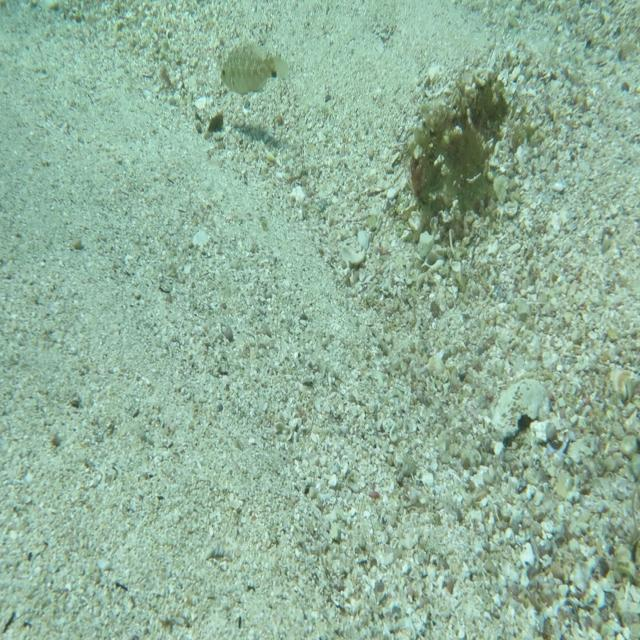SA: (219, 38, 291, 100)
core_nest: (462, 88, 498, 124)
nest: (411, 60, 511, 251)
vegetation: (204, 107, 227, 138), (158, 61, 174, 93)
